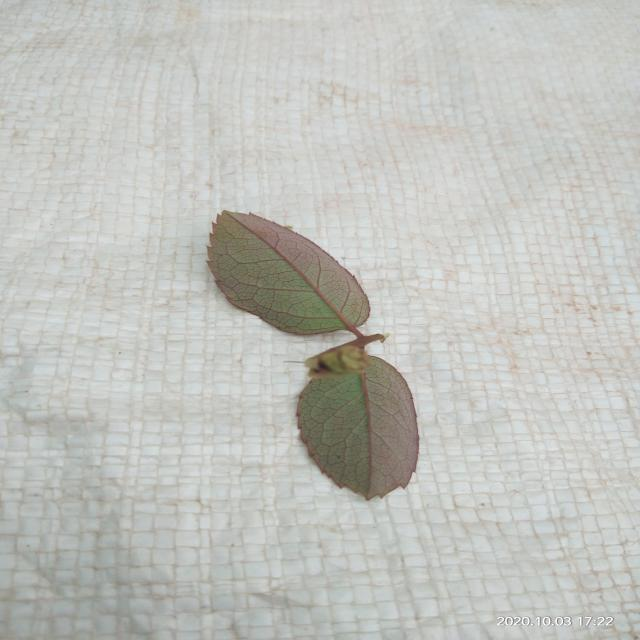rose: (208, 211, 418, 499)
